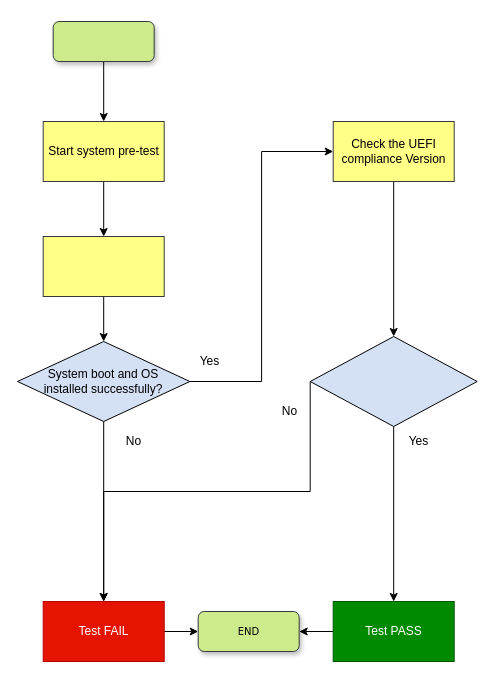
This 495x679 diagram has some shape labels left out. The centre of each missing label's shape, as x and y in pixels:
"Dump hardware inventory from iDRAC" goes at [103,266].
"Is UEFIComplianceVersion = 2.7?" goes at [393,381].
"START" goes at [104,42].
